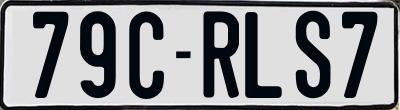7: (30, 11, 71, 101), (342, 11, 379, 103)
9: (77, 11, 113, 100)
C: (129, 10, 165, 99)
L: (242, 10, 279, 97)
R: (201, 9, 238, 96)
S: (296, 9, 331, 100)
